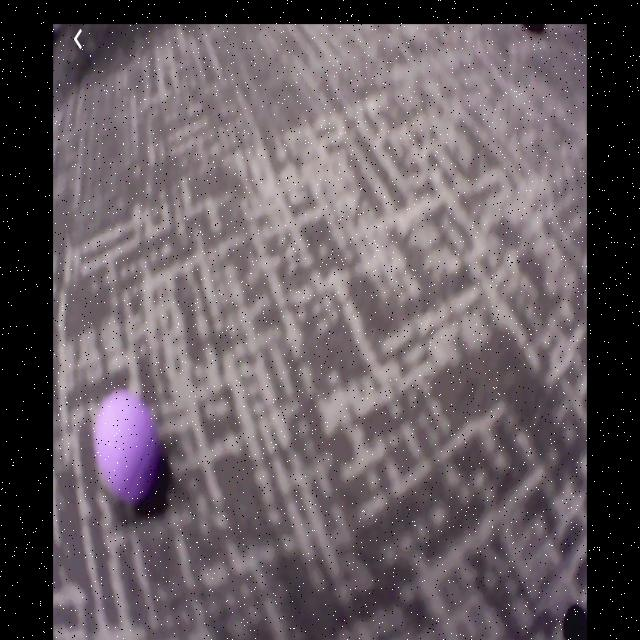ball: (93, 388, 162, 501)
